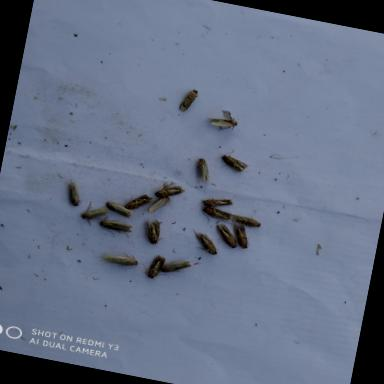pbw: (91, 244, 141, 274), (73, 198, 117, 232), (204, 104, 245, 136), (216, 145, 256, 176), (188, 228, 225, 259), (96, 214, 139, 240), (150, 176, 188, 204), (102, 194, 139, 220), (140, 216, 170, 248), (210, 220, 242, 250), (61, 178, 91, 210), (138, 250, 168, 282), (158, 255, 196, 279), (225, 222, 255, 252), (142, 191, 174, 219), (122, 190, 158, 214), (190, 156, 218, 186), (198, 192, 236, 214), (174, 84, 200, 116), (198, 204, 234, 226), (226, 210, 264, 230)
